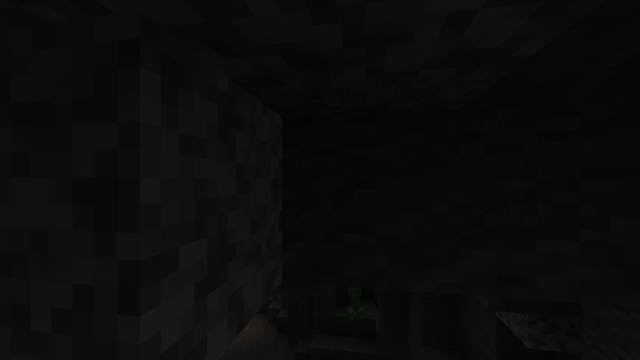creepers: (348, 287, 361, 320)
